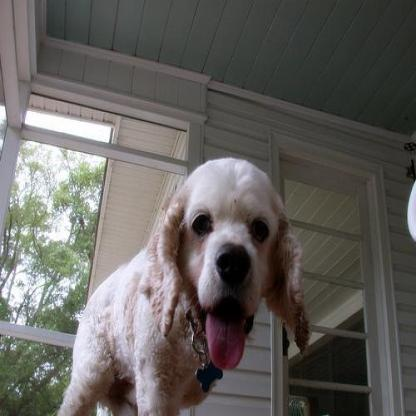cocker_spaniel: (55, 154, 314, 414)
